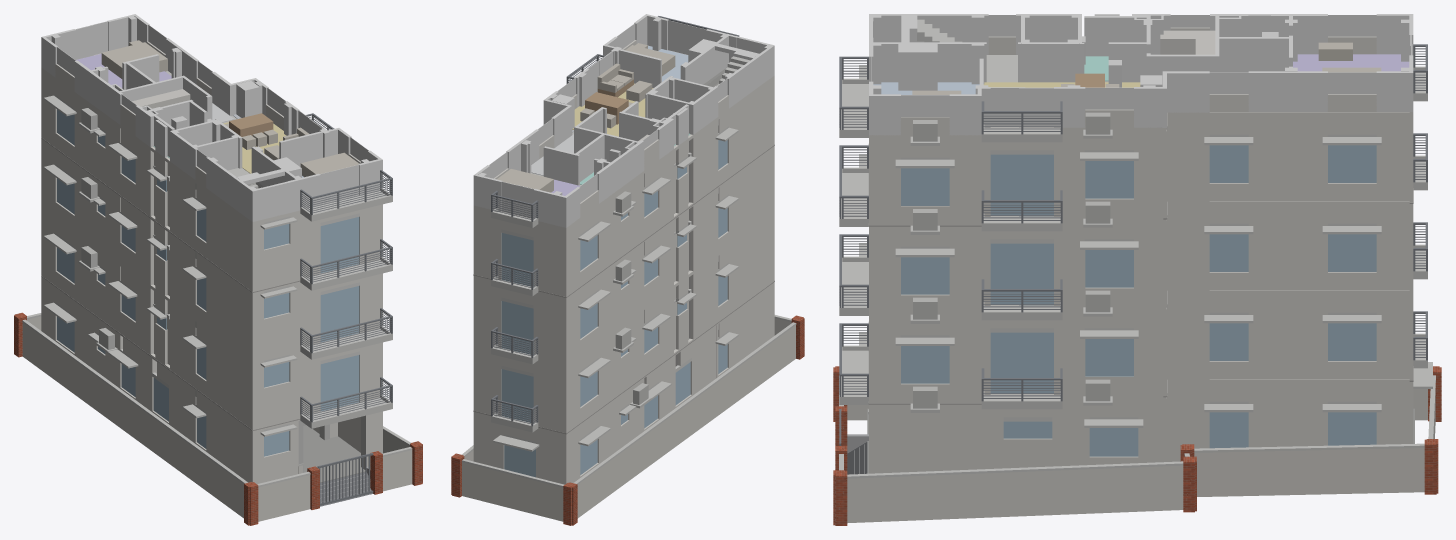
3 views of the same model, side by side, from view 1: azimuth 30°, elevation 25°; view 2: azimuth 150°, elevation 25°; view 3: azimuth 270°, elevation 25° (orthographic). The views are drawn at different scales.
Parts seen in each view (by area): view 1: BOUNDARY#226, 1ST_FLOOR/wall#310, 3RD_FLOOR/wall#934, 2ND_FLOOR/wall#618, GROUND_FLOOR/core_wall#122, BOUNDARY#184, PLINTH#0, 1ST_FLOOR/wall/glass#307, 2ND_FLOOR/wall/glass#615, 3RD_FLOOR/wall/glass#931, 3RD_FLOOR/wall#926, 2ND_FLOOR/wall#610 (+79 smaller); view 2: BOUNDARY#226, BOUNDARY#222, 1ST_FLOOR/wall#310, 2ND_FLOOR/wall#618, 3RD_FLOOR/wall#934, 1ST_FLOOR/wall#391, 2ND_FLOOR/wall#699, 3RD_FLOOR/wall#1015, GROUND_FLOOR/core_wall#122, 1ST_FLOOR/wall#1694, 3RD_FLOOR/wall#1706, 2ND_FLOOR/wall#1700 (+70 smaller); view 3: BOUNDARY#210, BOUNDARY#218, GROUND_FLOOR/full_wall#165, 2ND_FLOOR/wall#690, 3RD_FLOOR/wall#1006, 1ST_FLOOR/wall#382, GROUND_FLOOR/flat_wall#95, 1ST_FLOOR/wall#374, 2ND_FLOOR/wall#682, 3RD_FLOOR/wall#998, 4TH_FLOOR/wall#1314, GROUND_FLOOR/flat_wall#87 (+111 smaller).
Part boxes in pixels (box(x1,y1,x2,y2)): BOUNDARY#226: box(22, 322, 243, 518); 1ST_FLOOR/wall#310: box(206, 329, 250, 427); 3RD_FLOOR/wall#934: box(206, 191, 250, 289); 2ND_FLOOR/wall#618: box(206, 261, 250, 358); GROUND_FLOOR/core_wall#122: box(210, 401, 252, 482); BOUNDARY#184: box(258, 475, 310, 521); PLINTH#0: box(303, 436, 365, 482); 1ST_FLOOR/wall/glass#307: box(320, 355, 359, 411); 2ND_FLOOR/wall/glass#615: box(320, 286, 359, 342); 3RD_FLOOR/wall/glass#931: box(320, 217, 359, 273); 3RD_FLOOR/wall#926: box(289, 213, 320, 281); 2ND_FLOOR/wall#610: box(289, 282, 320, 350); BOUNDARY#226: box(577, 325, 795, 518); BOUNDARY#222: box(462, 462, 563, 521); 1ST_FLOOR/wall#310: box(727, 216, 773, 312); 2ND_FLOOR/wall#618: box(727, 147, 773, 244); 3RD_FLOOR/wall#934: box(727, 80, 773, 176); 1ST_FLOOR/wall#391: box(533, 360, 567, 432); 2ND_FLOOR/wall#699: box(533, 292, 567, 363); 3RD_FLOOR/wall#1015: box(533, 224, 567, 295); GROUND_FLOOR/core_wall#122: box(733, 283, 774, 365); 1ST_FLOOR/wall#1694: box(690, 256, 718, 339); 3RD_FLOOR/wall#1706: box(690, 120, 718, 202); 2ND_FLOOR/wall#1700: box(690, 188, 718, 271); BOUNDARY#210: box(847, 465, 1183, 523); BOUNDARY#218: box(1194, 448, 1424, 496); GROUND_FLOOR/full_wall#165: box(869, 405, 981, 473); 2ND_FLOOR/wall#690: box(1248, 205, 1327, 289); 3RD_FLOOR/wall#1006: box(1248, 116, 1327, 200); 1ST_FLOOR/wall#382: box(1248, 294, 1327, 378); GROUND_FLOOR/flat_wall#95: box(1248, 383, 1327, 447); 1ST_FLOOR/wall#374: box(1167, 294, 1209, 379); 2ND_FLOOR/wall#682: box(1167, 205, 1209, 290); 3RD_FLOOR/wall#998: box(1167, 116, 1209, 201); 4TH_FLOOR/wall#1314: box(1248, 71, 1327, 111); GROUND_FLOOR/flat_wall#87: box(1167, 383, 1209, 461).
Bounding box in the file's own units: 8.06 × 14.15 × 18.89.
1 material, 1 textured.
